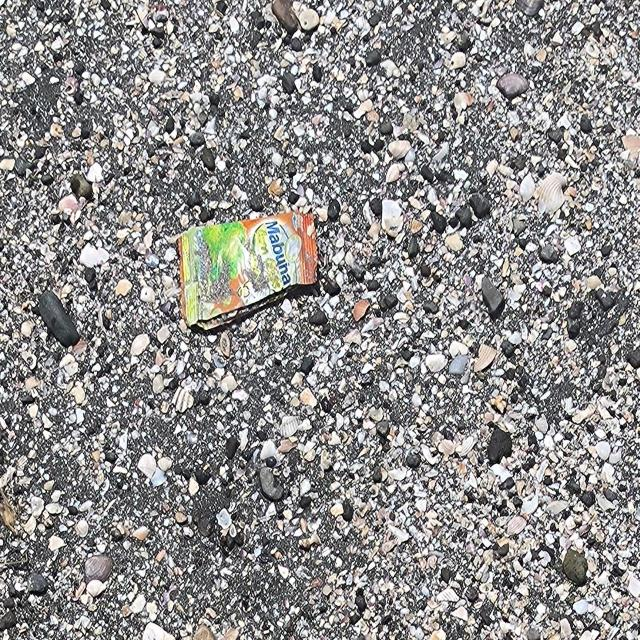plastic_waste: (179, 210, 321, 332)
